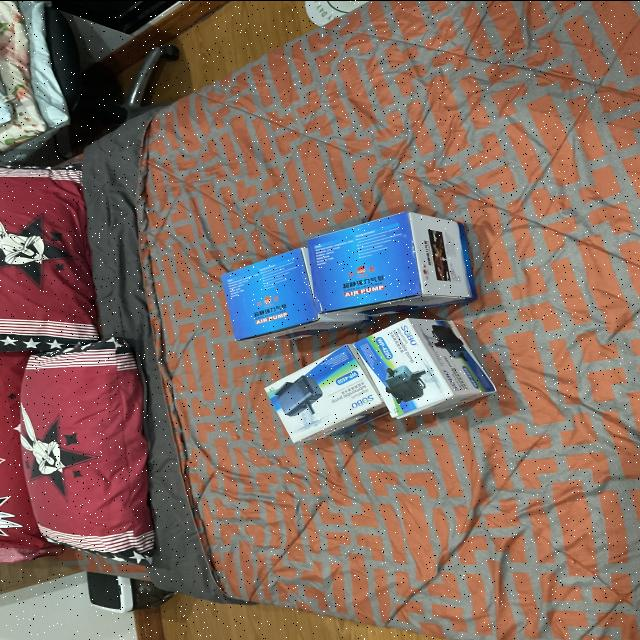SOBO_WP_4200: (350, 312, 514, 424), (246, 335, 374, 451)
YAMANO_LPP_20: (298, 190, 496, 310), (204, 231, 367, 339)
